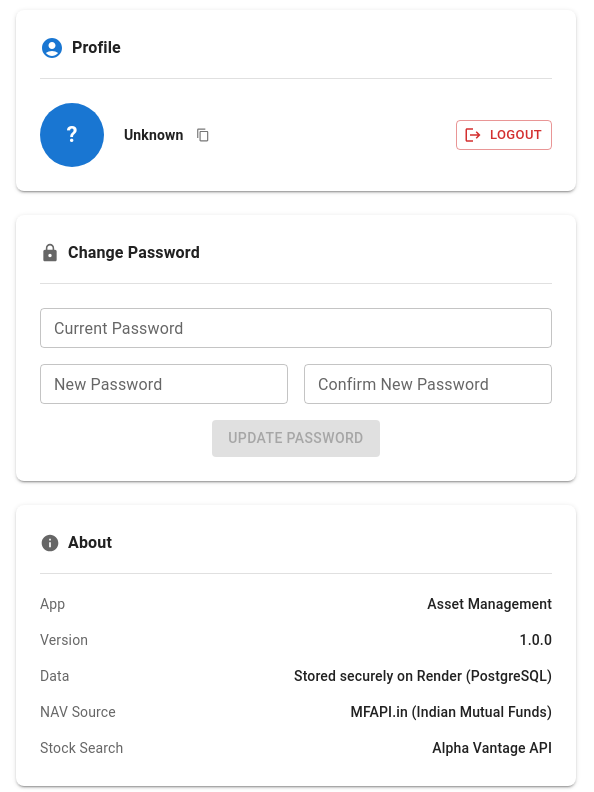
Test: Settings change password › shows error when new password is too short
Type "old" into the password field labelled "Current Password" at {"x": 296, "y": 328}, box [40,308,552,348]
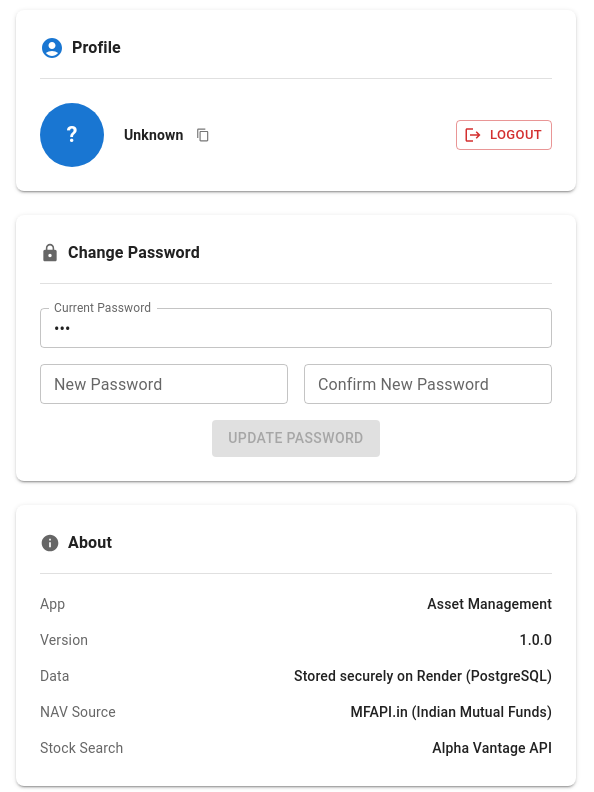
Type "abc" into the password field labelled "New Password" at {"x": 164, "y": 384}, box [40,364,288,404]
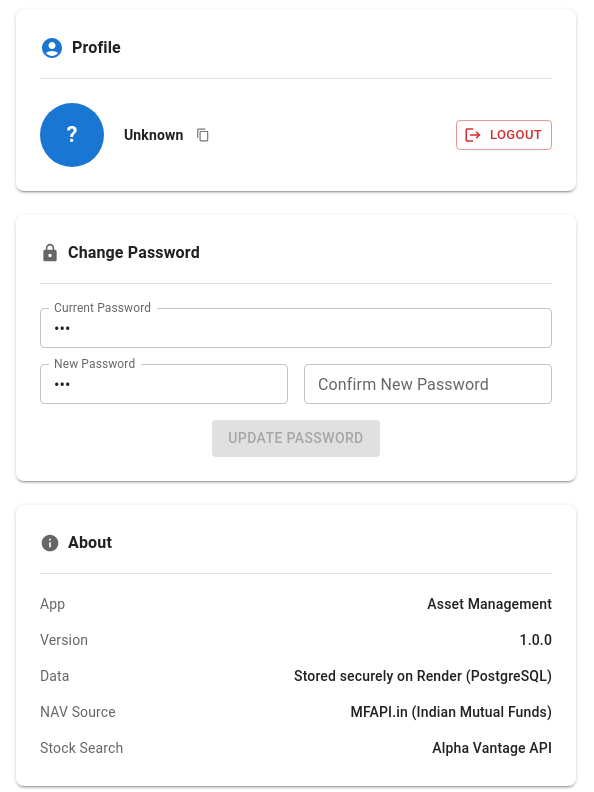
Type "abc" into the password field labelled "Confirm New Password" at {"x": 428, "y": 384}, box [304,364,552,404]
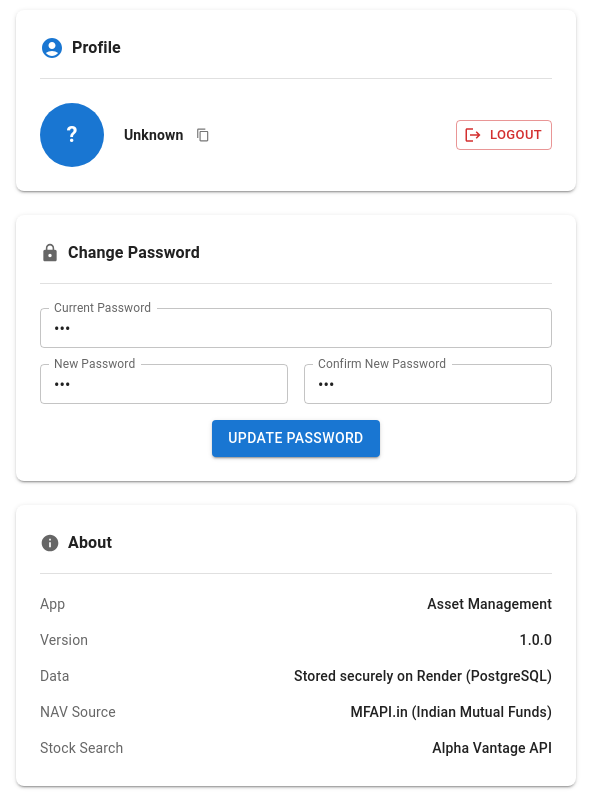
Click the button "Update Password" at {"x": 296, "y": 438}, box [212,420,380,456]
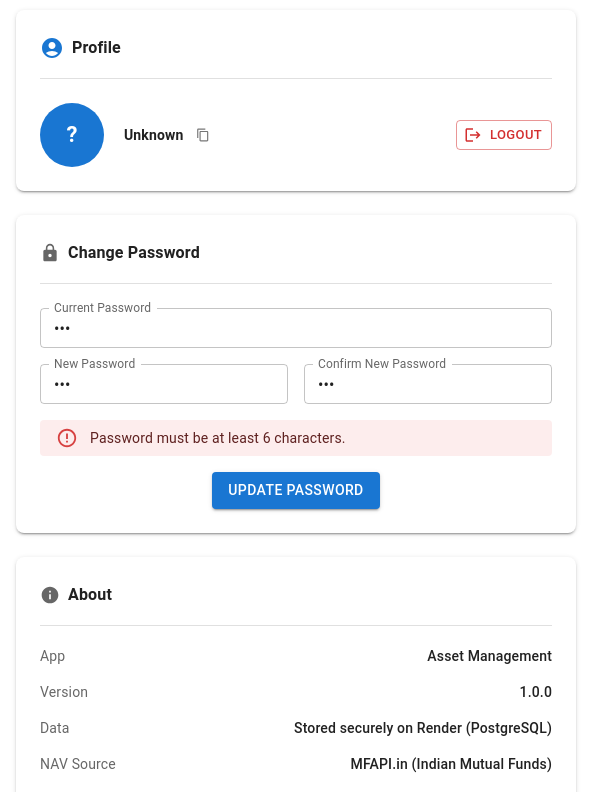
Expected: the text "Password must be at least 6 characters." is shown, [90,430,346,446]
